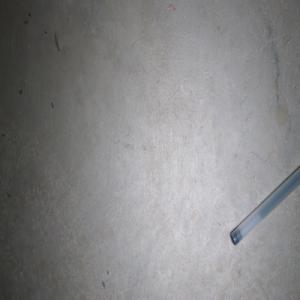Pen: (230, 166, 300, 245)
